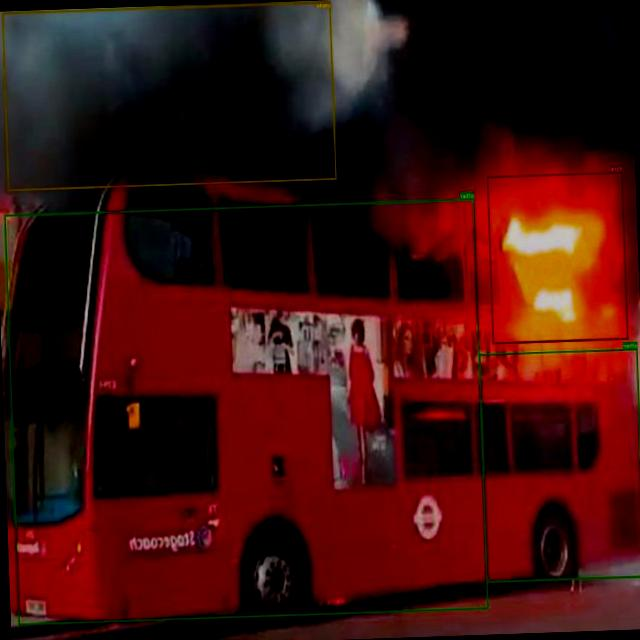fire: (486, 170, 628, 344)
smoke: (1, 0, 336, 190)
